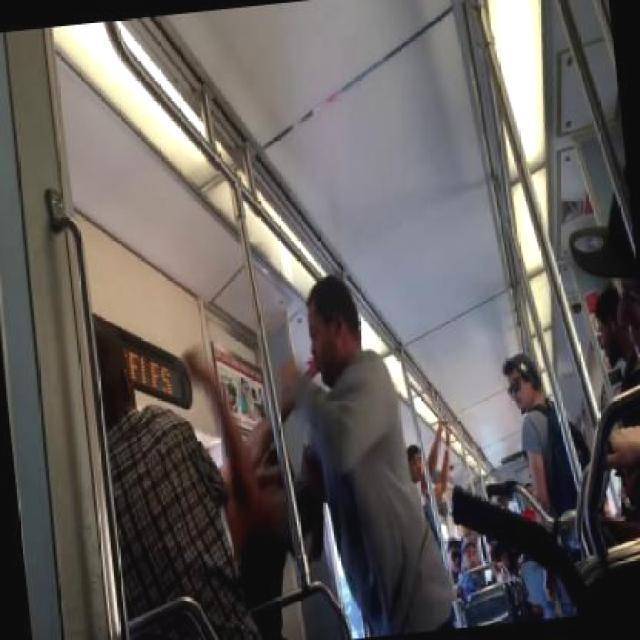fight: (90, 267, 443, 638)
non-fight: (498, 344, 594, 508)
